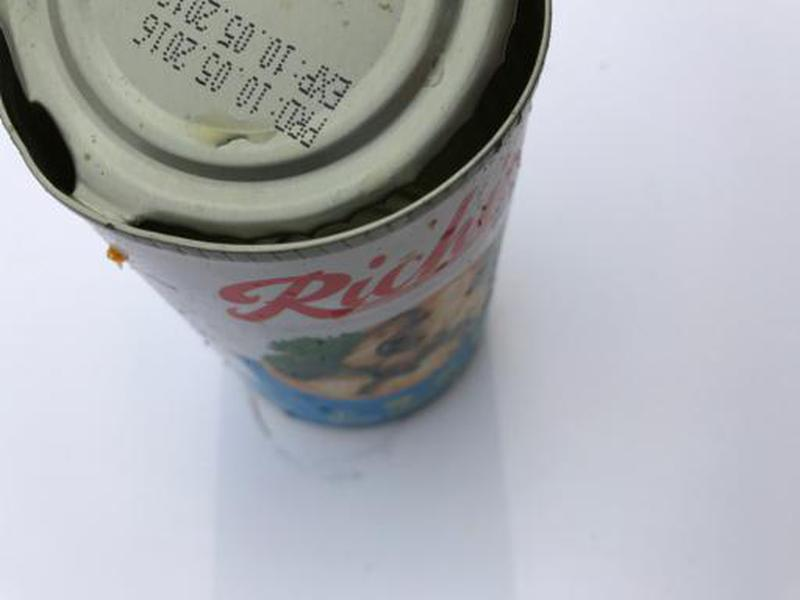can: (1, 1, 563, 443)
